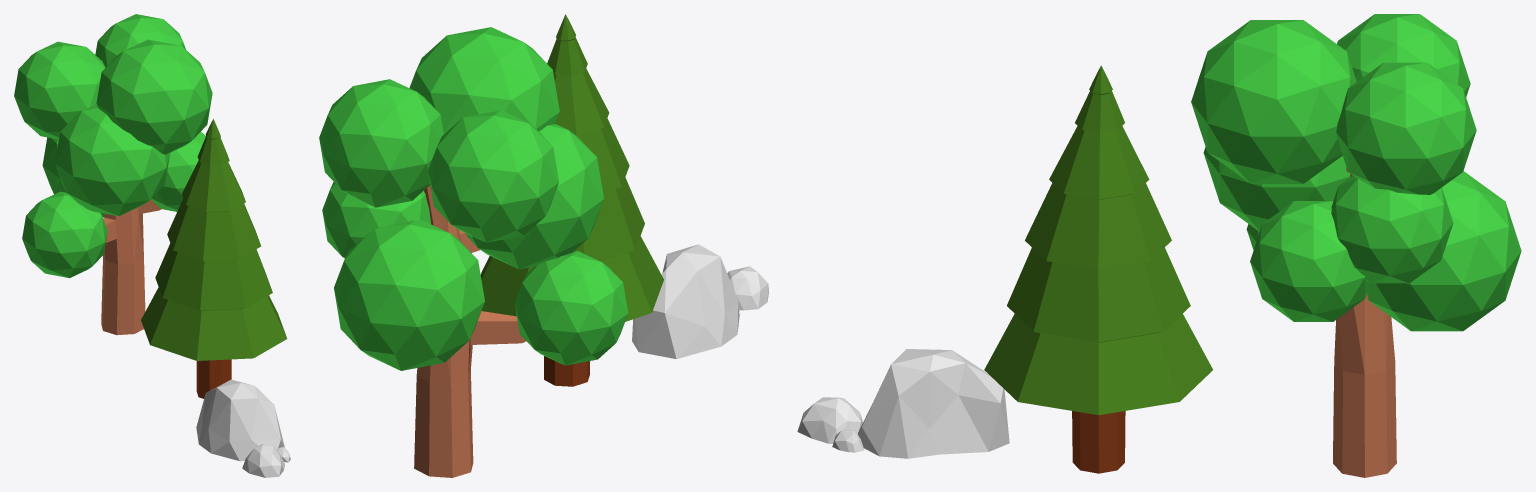
Rendered from E_MISC_Models.fbx.
3 renders of one model, left to right at view 1: azimuth 30°, elevation 25°; view 2: azimuth 150°, elevation 25°; view 3: azimuth 270°, elevation 25°, orthographic. The views are drawn at different scales.
Parts seen in each view (by area): view 1: E_Tree_01, E_Tree_02, E_Rock_02, E_Rock_01; view 2: E_Tree_01, E_Tree_02, E_Rock_02, E_Rock_01; view 3: E_Tree_01, E_Tree_02, E_Rock_02, E_Rock_01.
Part boxes in pixels (bbox=[...]): E_Tree_01: bbox=[14, 14, 212, 335]; E_Tree_02: bbox=[141, 119, 287, 398]; E_Rock_02: bbox=[196, 379, 284, 461]; E_Rock_01: bbox=[242, 444, 284, 477]; E_Tree_01: bbox=[319, 27, 628, 477]; E_Tree_02: bbox=[480, 14, 663, 386]; E_Rock_02: bbox=[632, 244, 739, 359]; E_Rock_01: bbox=[727, 266, 768, 310]; E_Tree_01: bbox=[1191, 14, 1521, 477]; E_Tree_02: bbox=[984, 65, 1212, 473]; E_Rock_02: bbox=[858, 349, 1009, 458]; E_Rock_01: bbox=[797, 397, 862, 443].
Size of the model in its own units: 1763 by 2696 by 4022.
